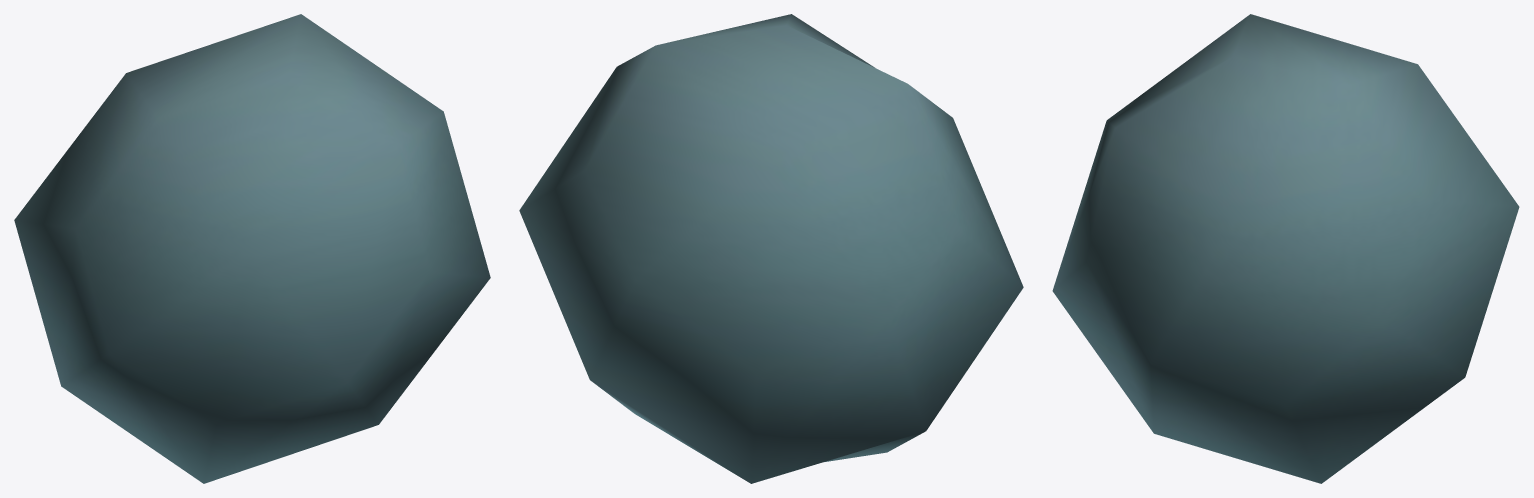
Rendered from Trees_Stone3.fbx.
3 views of the same model, side by side, from view 1: azimuth 30°, elevation 25°; view 2: azimuth 150°, elevation 25°; view 3: azimuth 270°, elevation 25° (orthographic). The views are drawn at different scales.
Parts seen in each view (by area): view 1: Stone3; view 2: Stone3; view 3: Stone3.
Boxes of the visible parts, x1,y1,x2,y2 form: Stone3: (14, 14, 490, 483); Stone3: (519, 14, 1023, 483); Stone3: (1052, 14, 1519, 483).
Bounding box in the file's own units: 29.21 × 28.49 × 29.66.
Materials: 1 (1 with a texture image).
